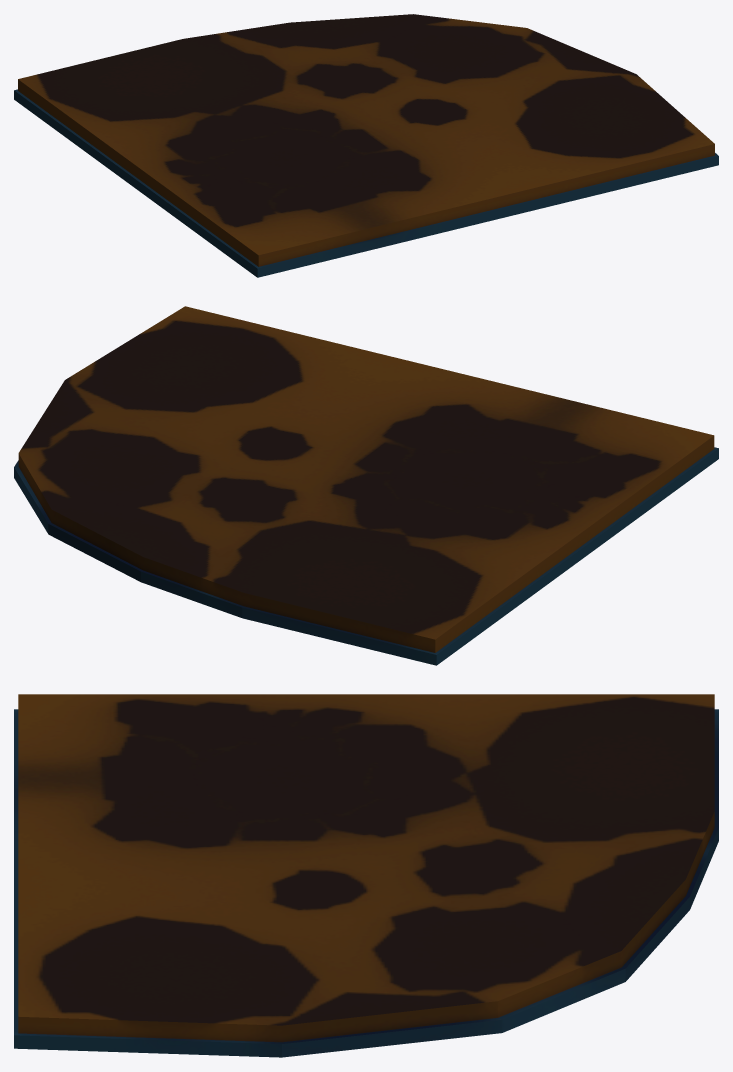
File: Ground_02.FBX
The picture shows the model from 3 angles, top to bottom: view 1: azimuth 30°, elevation 25°; view 2: azimuth 150°, elevation 25°; view 3: azimuth 270°, elevation 25°; orthographic projection. The views are drawn at different scales.
Visible parts, largest first — view 1: Ground_02; view 2: Ground_02; view 3: Ground_02.
Boxes of the visible parts, box(x1,y1,x2,y2) form: Ground_02: box(14, 14, 718, 277); Ground_02: box(14, 306, 718, 665); Ground_02: box(14, 694, 718, 1057).
Bounding box in the file's own units: 40.31 × 1.69 × 35.87.
